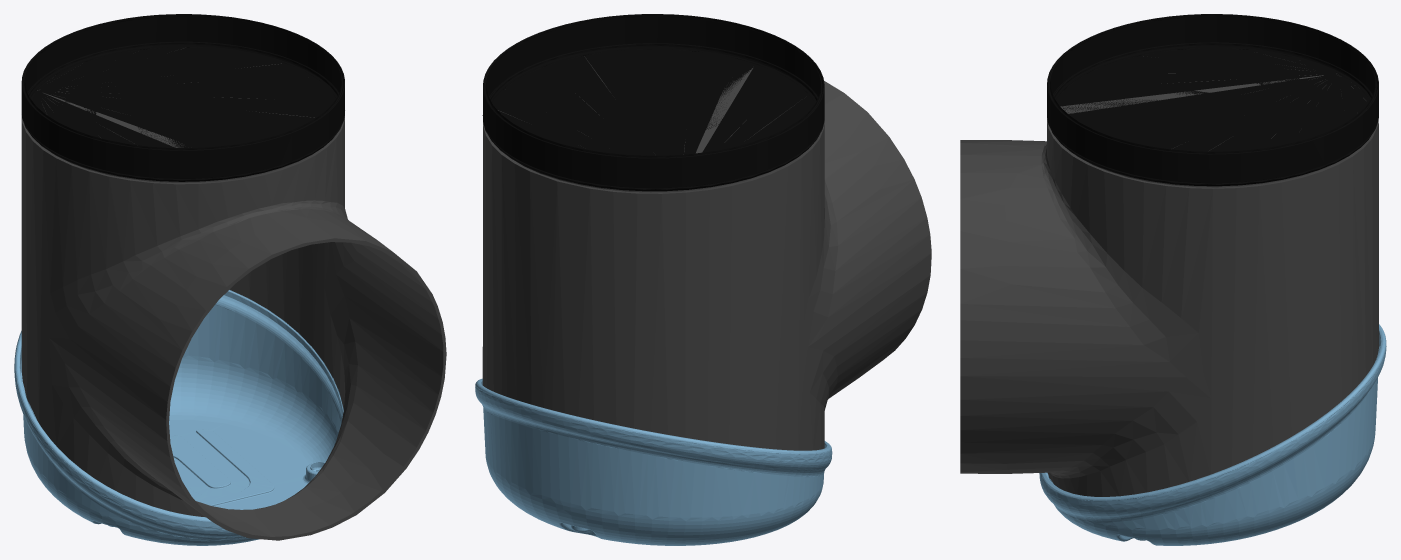
File: wrist1.obj
3 views of the same model, side by side, from view 1: azimuth 30°, elevation 25°; view 2: azimuth 150°, elevation 25°; view 3: azimuth 270°, elevation 25° (orthographic). The views are drawn at different scales.
Parts seen in each view (by area): view 1: eSeries_UR10e_037, eSeries_UR10e_022, eSeries_UR10e_021; view 2: eSeries_UR10e_037, eSeries_UR10e_022, eSeries_UR10e_021; view 3: eSeries_UR10e_037, eSeries_UR10e_022, eSeries_UR10e_021.
Boxes of the visible parts, x1,y1,x2,y2 form: eSeries_UR10e_037: (21, 48, 446, 540); eSeries_UR10e_022: (21, 14, 344, 181); eSeries_UR10e_021: (14, 290, 343, 545); eSeries_UR10e_037: (482, 56, 931, 450); eSeries_UR10e_022: (482, 14, 824, 191); eSeries_UR10e_021: (475, 378, 832, 545); eSeries_UR10e_037: (960, 56, 1379, 496); eSeries_UR10e_022: (1047, 14, 1378, 186); eSeries_UR10e_021: (1039, 324, 1386, 545).
Bounding box in the file's own units: 0.094 × 0.1241 × 0.1154.
